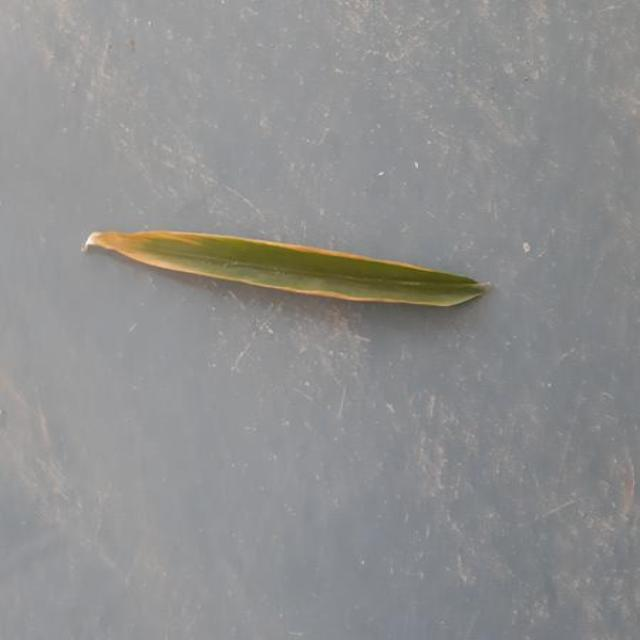bacterial wilt: (83, 231, 488, 306)
ginger: (83, 231, 490, 307)
